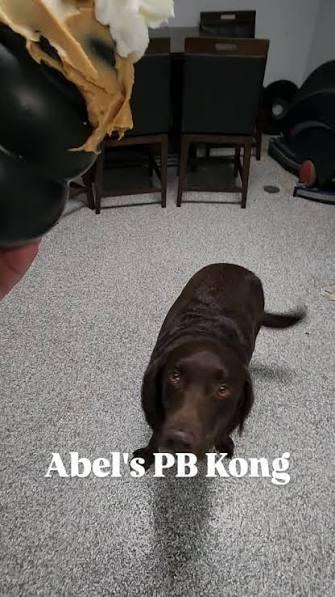adult_dog: (125, 264, 308, 480)
